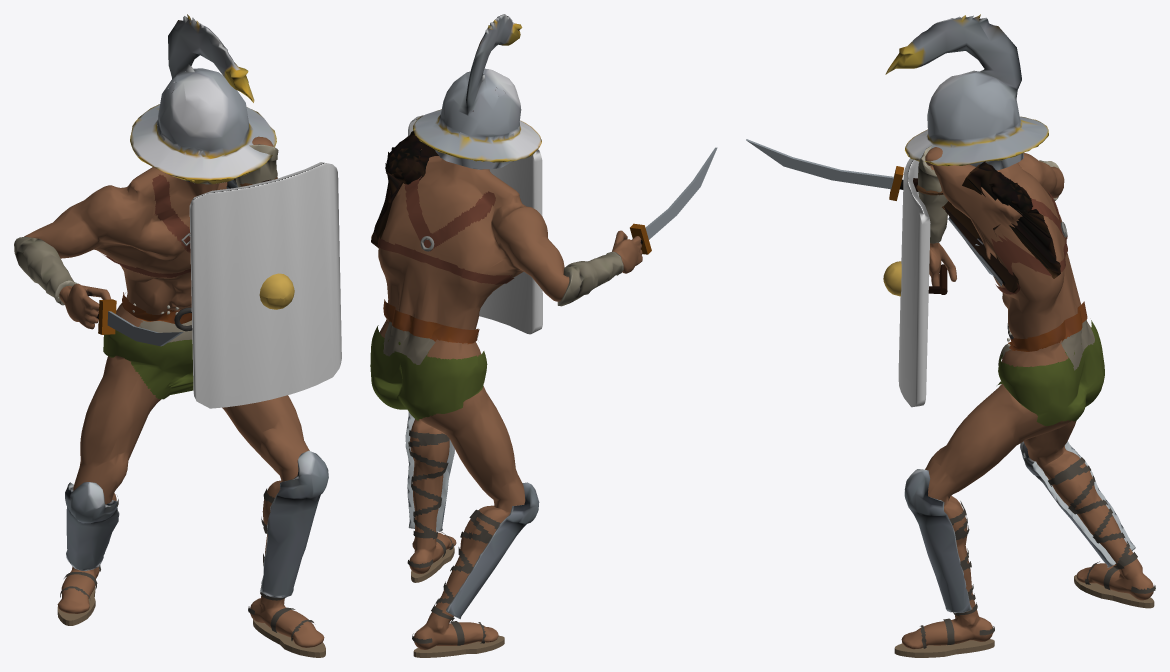
Rendered from glad_thraex.glb.
3 renders of one model, left to right at view 1: azimuth 30°, elevation 25°; view 2: azimuth 150°, elevation 25°; view 3: azimuth 270°, elevation 25°, orthographic. The views are drawn at different scales.
Visible parts, largest first — view 1: thraex; view 2: thraex; view 3: thraex.
Part boxes in pixels (left/top/right/bottom): thraex: left=14, top=14, right=341, bottom=657; thraex: left=370, top=14, right=717, bottom=657; thraex: left=746, top=14, right=1155, bottom=657.
Size of the model in its own units: 0.5116 by 1.18 by 0.7314.
